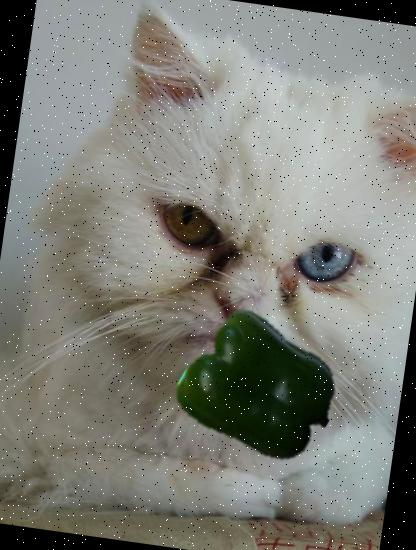Pepper: (178, 303, 346, 472)
